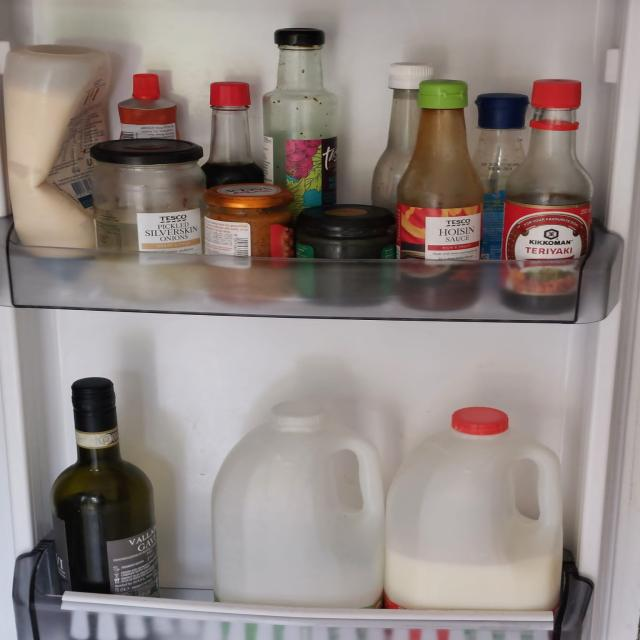Leche: (390, 405, 564, 638), (221, 404, 386, 636)
